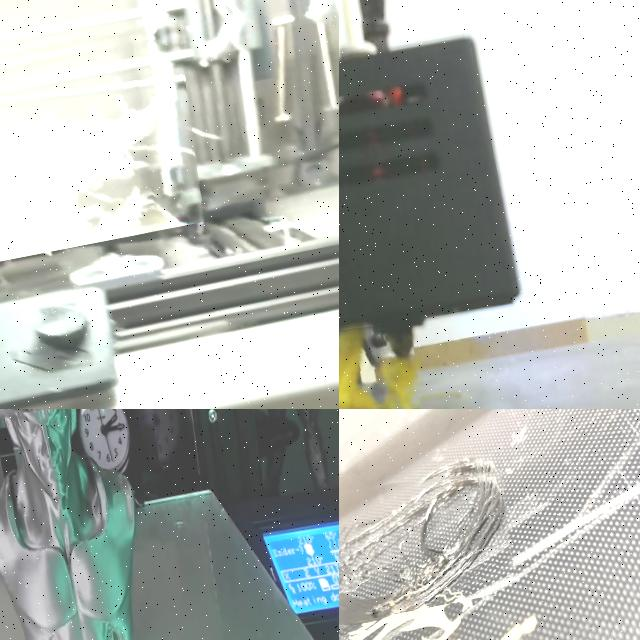spaghetti: (0, 51, 213, 288), (339, 472, 507, 623), (339, 327, 417, 409)
